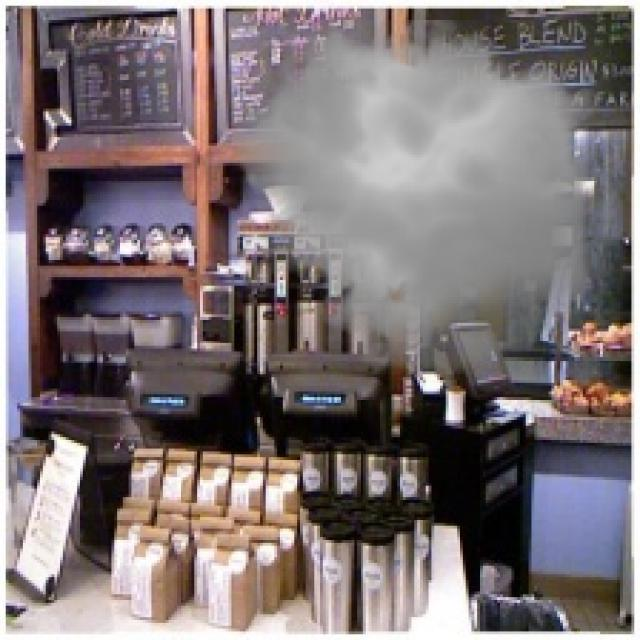Smoke: (220, 3, 614, 386)
